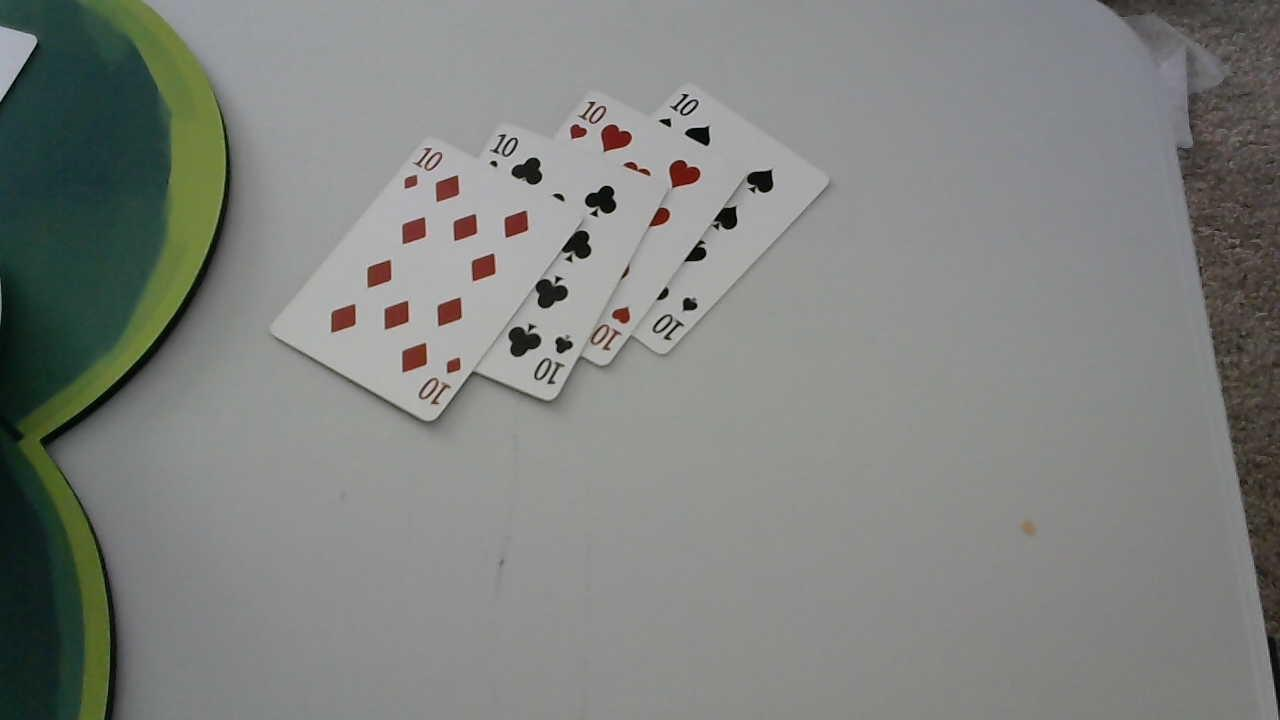10C: (531, 330, 577, 387)
10D: (417, 353, 463, 408), (400, 143, 447, 194)
10H: (588, 303, 634, 353), (567, 97, 609, 139)
10S: (652, 294, 699, 341)
